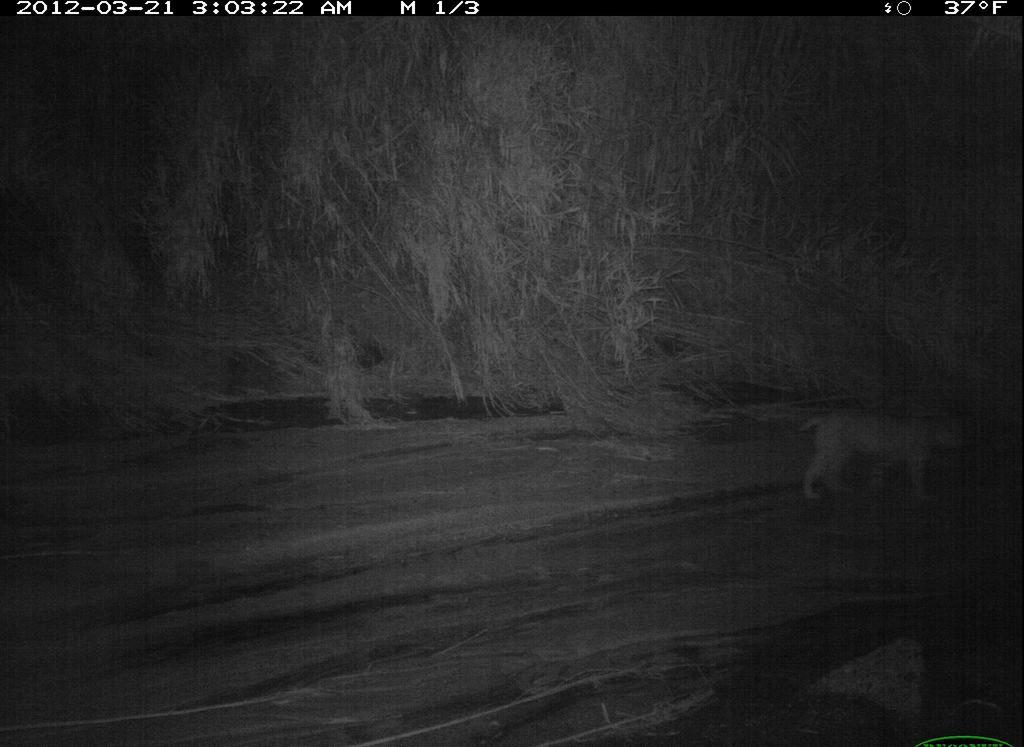bobcat: (770, 382, 991, 530)
